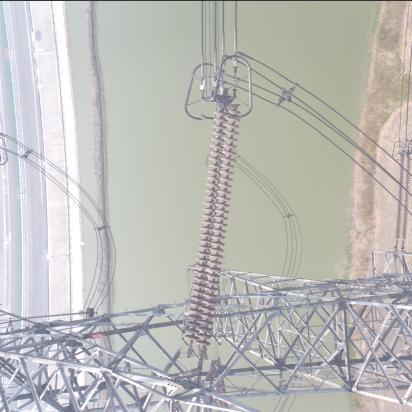insulator: (187, 103, 238, 361)
